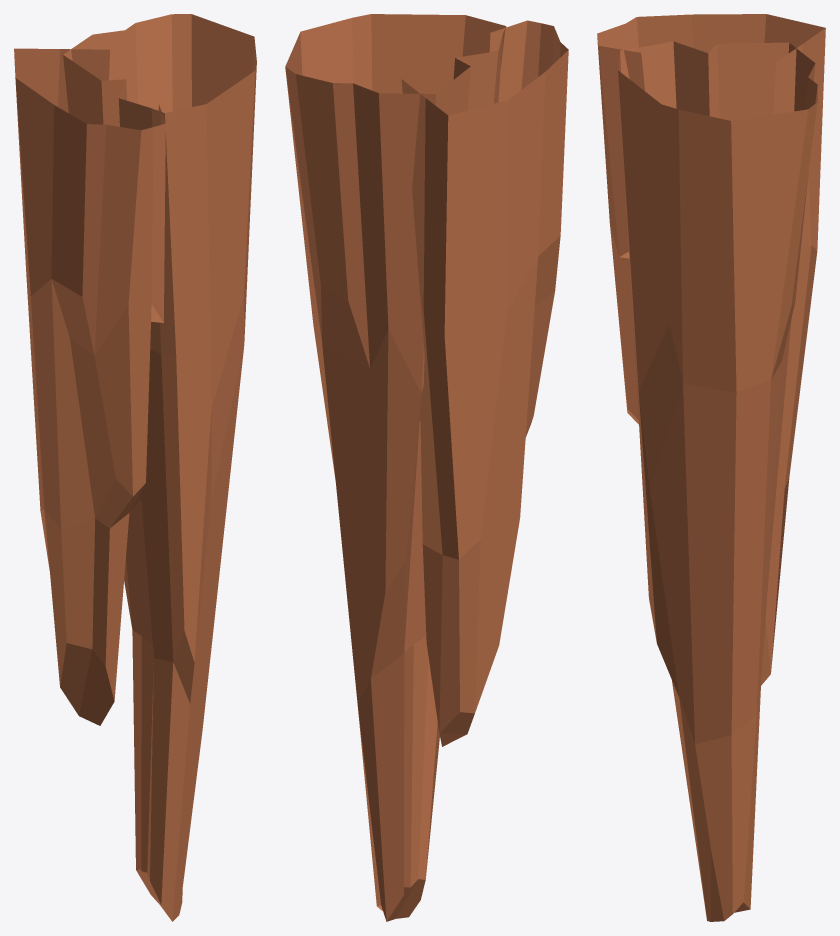
File: Stalactite_3.fbx
The picture shows the model from 3 angles, left to right: view 1: azimuth 30°, elevation 25°; view 2: azimuth 150°, elevation 25°; view 3: azimuth 270°, elevation 25°; orthographic projection. The views are drawn at different scales.
Visible parts, largest first — view 1: Stalactite_3; view 2: Stalactite_3; view 3: Stalactite_3.
Part boxes in pixels (x1=…): Stalactite_3: x1=14, y1=14, x2=256, y2=921; Stalactite_3: x1=285, y1=14, x2=568, y2=921; Stalactite_3: x1=597, y1=14, x2=825, y2=921.
Bounding box in the file's own units: 251 × 924 × 227.
